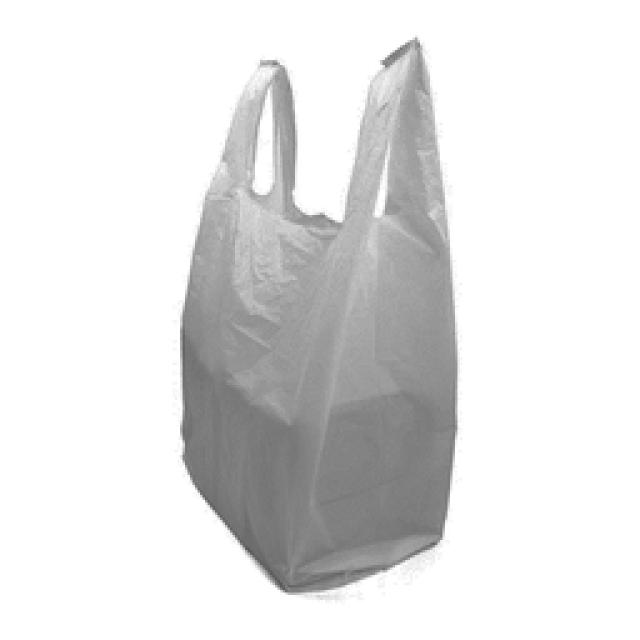plastic: (180, 40, 455, 590)
